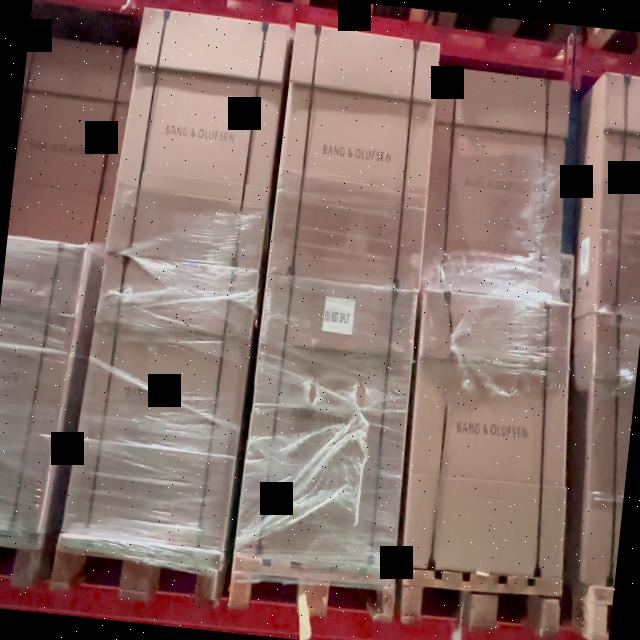box: (76, 257, 254, 555), (237, 277, 416, 570), (401, 300, 570, 576), (272, 25, 440, 286), (118, 12, 284, 267), (422, 69, 572, 301)
